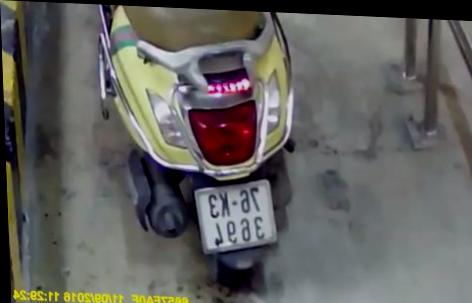License_Plate: (188, 171, 283, 260)
